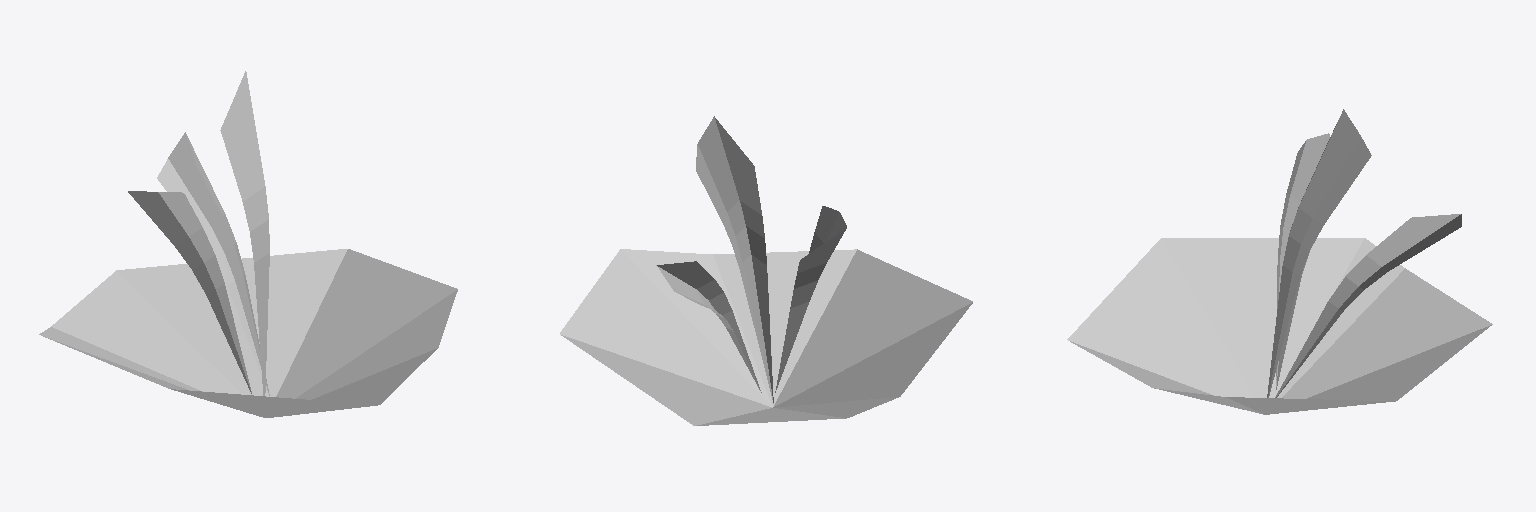
The model's file is Petal_6.obj.
The picture shows the model from 3 angles: view 1: azimuth 30°, elevation 25°; view 2: azimuth 150°, elevation 25°; view 3: azimuth 270°, elevation 25°; orthographic projection.
Parts seen in each view (by area): view 1: Petal_6; view 2: Petal_6; view 3: Petal_6.
Boxes of the visible parts, box(x1,y1,x2,y2) form: Petal_6: box(39, 71, 457, 417); Petal_6: box(560, 116, 972, 425); Petal_6: box(1067, 109, 1492, 414).
Size of the model in its own units: 0.6298 by 0.5428 by 0.6645.